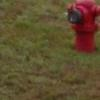Hydrant: (57, 2, 100, 53)
